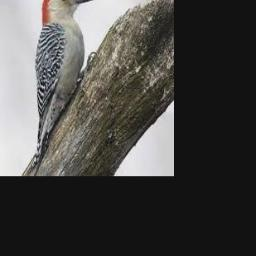Woodpecker: (24, 0, 94, 175)
